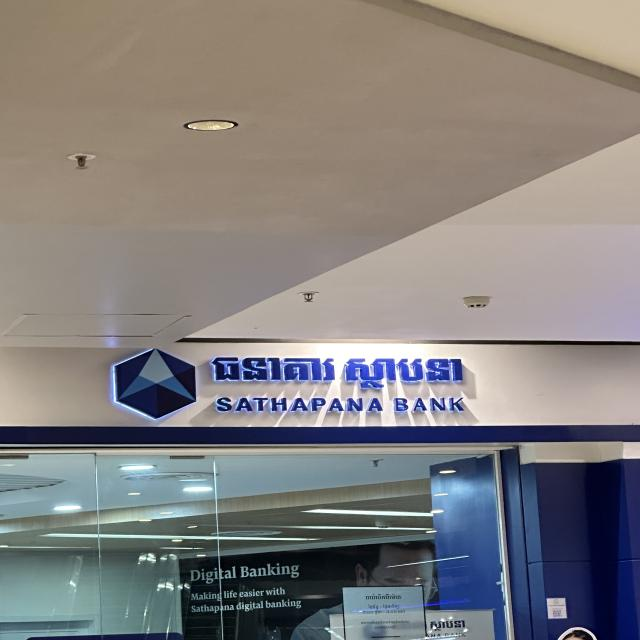Yolov11kh: (204, 346, 468, 392)
